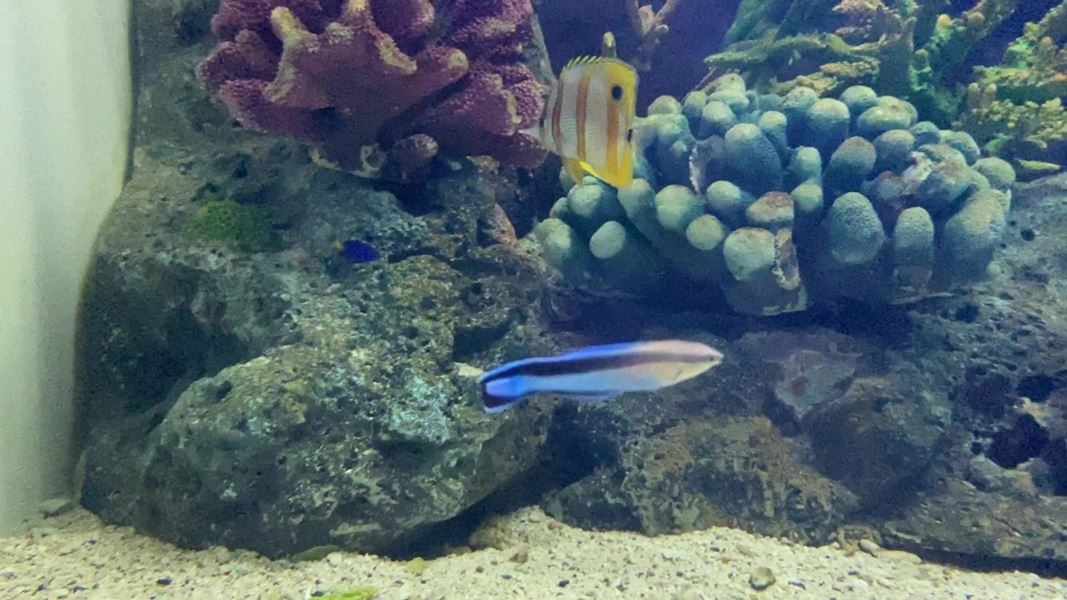Bluesteak cleaner wrasse: (476, 329, 731, 425)
